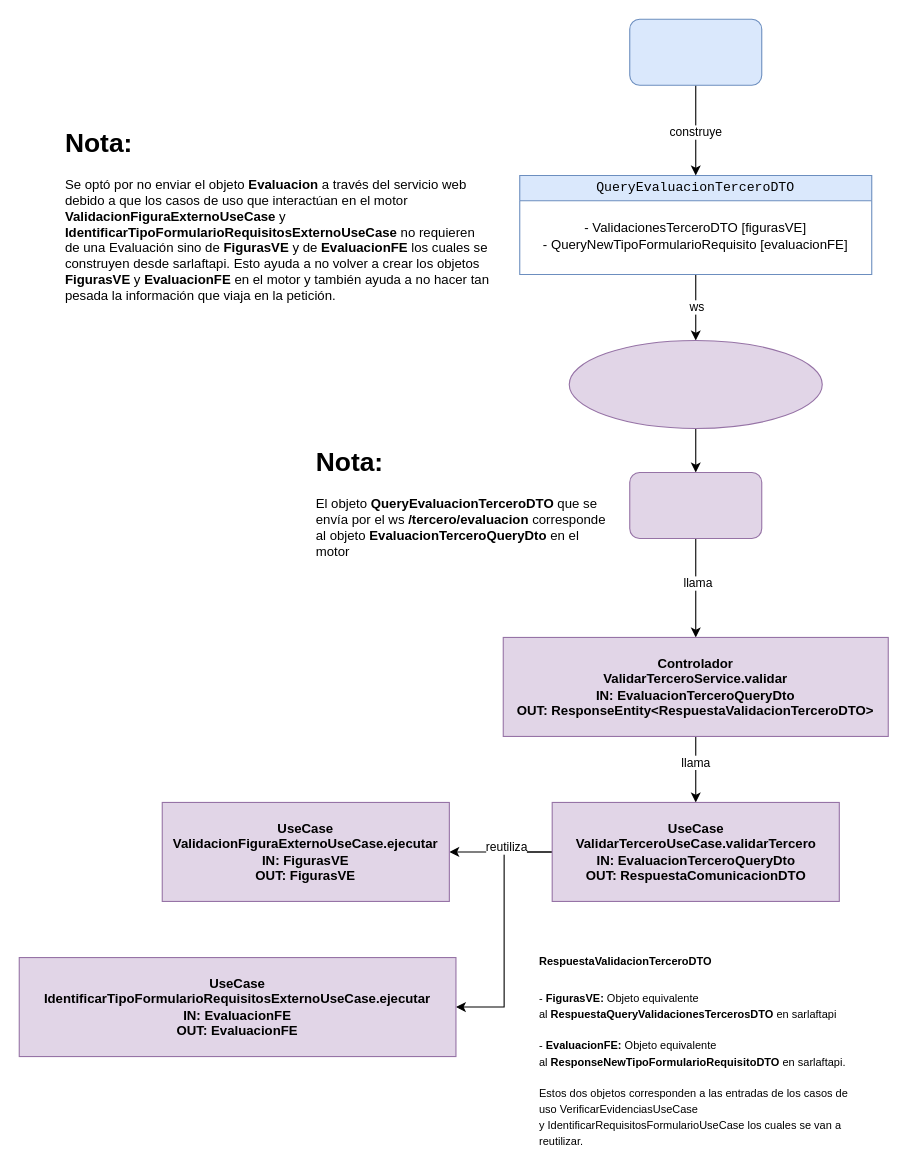
This 908x1174 diagram has some shape labels left out. Each missing label, with the centre of its shape:
"/tercero/evaluacion IN: QueryEvaluacionTerceroDTO" goes at point (695, 383).
"ms sarlaftapi" goes at point (695, 51).
"ms sarlaftengine" goes at point (695, 504).
